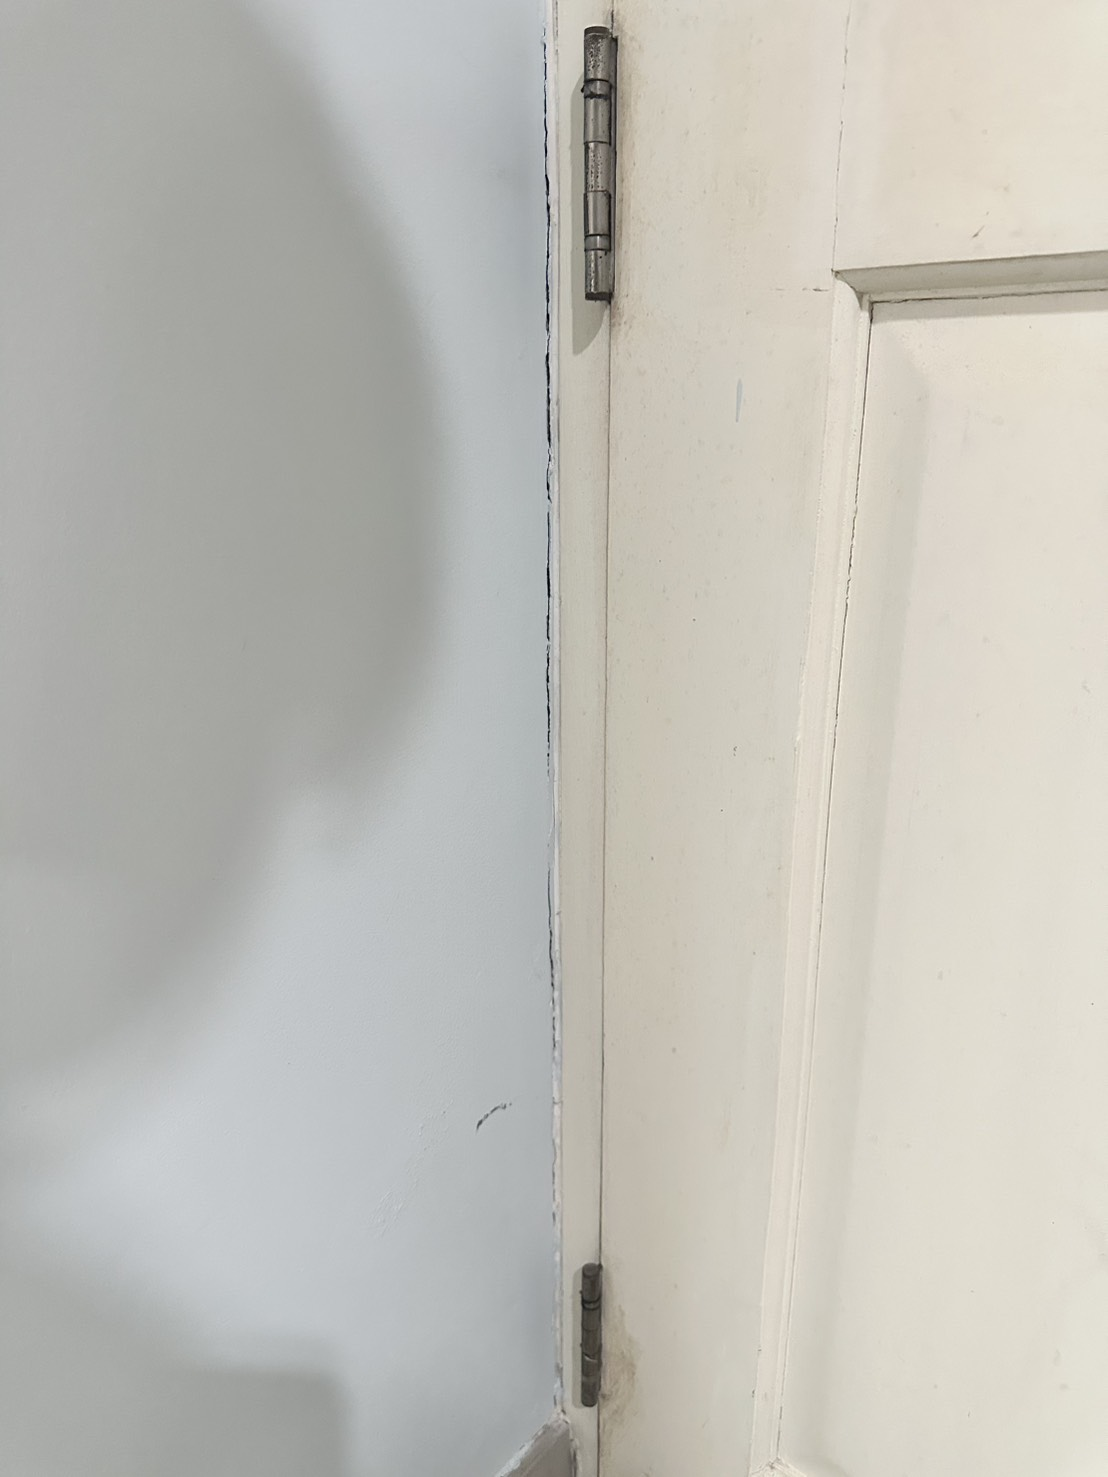Low: (466, 1, 690, 1416)
